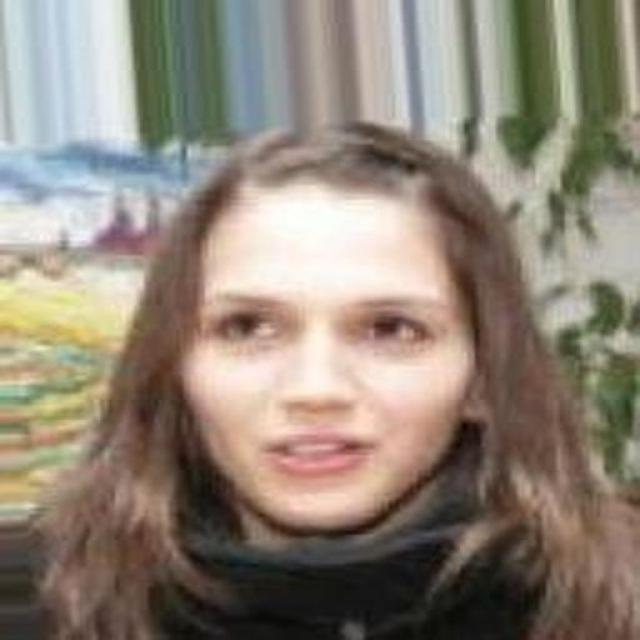bareface: (142, 124, 472, 575)
